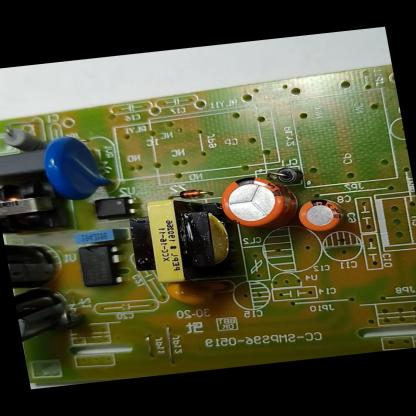Cap1: (216, 171, 303, 231)
Cap2: (293, 194, 350, 235)
Cap3: (4, 234, 66, 294)
Cap4: (13, 286, 80, 348)
MOSFET: (74, 240, 128, 292)
Mov: (38, 130, 123, 205)
Resistor: (0, 122, 43, 155)
Transformer: (121, 192, 244, 290), (0, 174, 76, 238)
